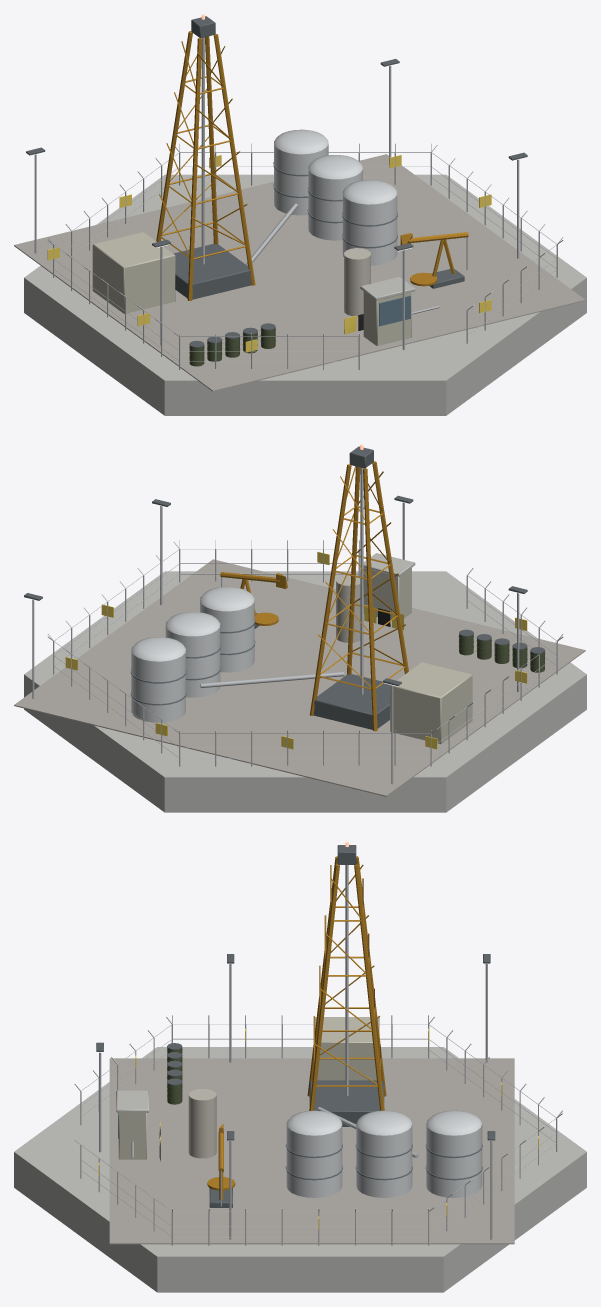
The model's file is extractor_oil.glb.
3 renders of one model, top to bottom at view 1: azimuth 30°, elevation 25°; view 2: azimuth 150°, elevation 25°; view 3: azimuth 270°, elevation 25°, orthographic.
Parts seen in each view (by area): view 1: gravel, wall_concrete, paint, metal, cladding, steel_dark, hazard, glass; view 2: gravel, wall_concrete, paint, metal, cladding, steel_dark, hazard; view 3: gravel, wall_concrete, paint, metal, cladding, steel_dark.
Boxes of the visible parts, <box> form: gravel: <box>14,154,585,391</box>; wall_concrete: <box>24,174,586,415</box>; paint: <box>156,31,468,366</box>; metal: <box>34,37,563,369</box>; cladding: <box>92,232,411,345</box>; steel_dark: <box>26,16,527,347</box>; hazard: <box>47,155,491,352</box>; glass: <box>379,295,410,326</box>; gravel: <box>14,559,585,796</box>; wall_concrete: <box>24,553,586,812</box>; paint: <box>130,461,545,731</box>; metal: <box>32,467,563,784</box>; cladding: <box>363,568,472,744</box>; steel_dark: <box>24,446,544,729</box>; hazard: <box>65,551,527,749</box>; gravel: <box>109,1058,514,1244</box>; wall_concrete: <box>14,1047,586,1292</box>; paint: <box>167,856,482,1199</box>; metal: <box>74,865,562,1245</box>; cladding: <box>118,1017,379,1159</box>; steel_dark: <box>96,845,495,1207</box>.
Size of the model in its own units: 21.3 by 14.5 by 24.6.
